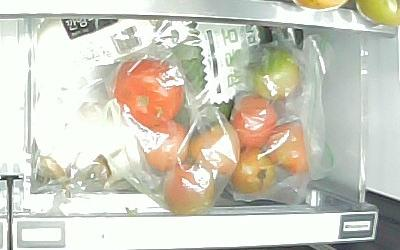tomato_vinyl: (115, 58, 184, 125), (229, 94, 281, 150), (252, 47, 304, 100), (189, 119, 239, 174), (163, 164, 215, 215), (141, 120, 188, 172), (232, 148, 280, 193), (267, 123, 309, 173)
